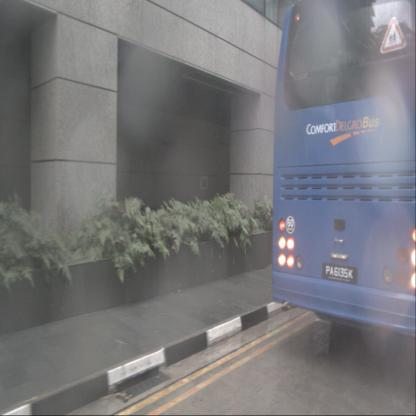vehicle-bus-rigid: (269, 0, 416, 341)
